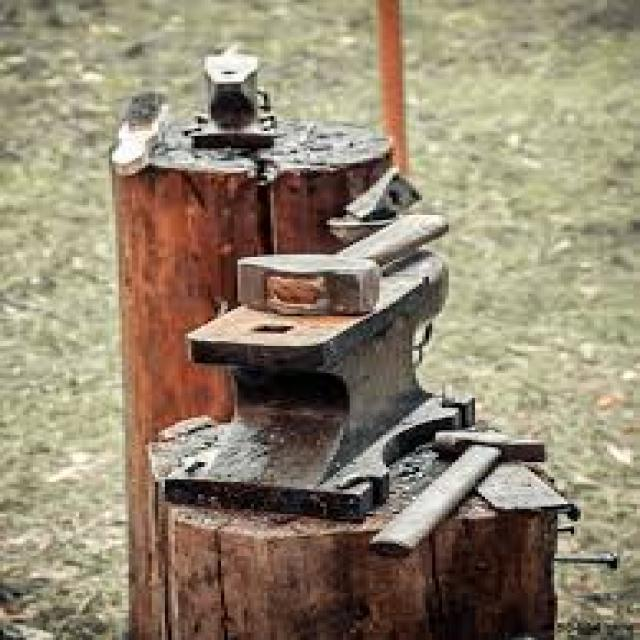hammer: (222, 204, 470, 325)
